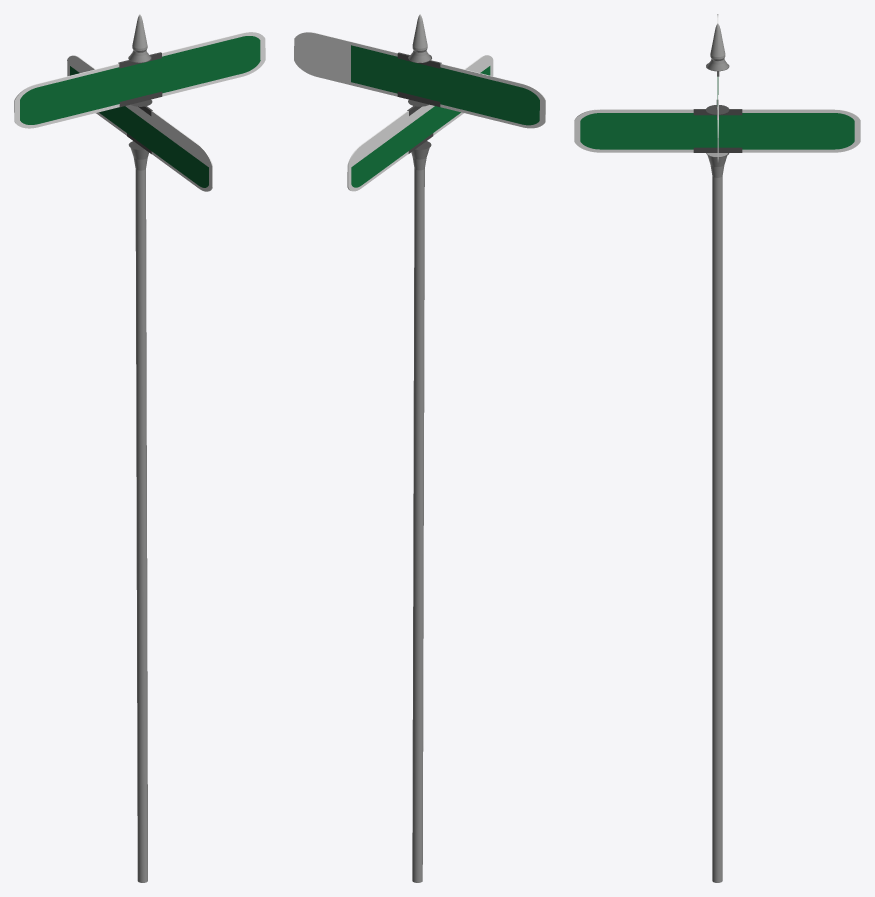
Rendered from S_Bunker_Hill_and_3rd.fbx.
The picture shows the model from 3 angles, left to right: view 1: azimuth 30°, elevation 25°; view 2: azimuth 150°, elevation 25°; view 3: azimuth 270°, elevation 25°; orthographic projection.
Parts seen in each view (by area): view 1: Group8, pite1, Group10, Group6, Sign1; view 2: pite1, Group7, Group6, Group10, Sign1; view 3: Group9, pite1, Sign1.
Part boxes in pixels (left/top/right/bottom): Group8: left=20, top=36, right=260, bottom=124; pite1: left=130, top=148, right=148, bottom=882; Group10: left=70, top=66, right=208, bottom=187; Group6: left=14, top=32, right=265, bottom=128; Sign1: left=67, top=55, right=212, bottom=191; pite1: left=411, top=147, right=429, bottom=882; Group7: left=351, top=45, right=539, bottom=125; Group6: left=294, top=32, right=545, bottom=128; Group10: left=351, top=66, right=490, bottom=187; Sign1: left=347, top=55, right=493, bottom=191; Group9: left=580, top=113, right=854, bottom=149; pite1: left=707, top=153, right=727, bottom=882; Sign1: left=574, top=109, right=860, bottom=152.
Bounding box in the file's own units: 226 × 745 × 226.
